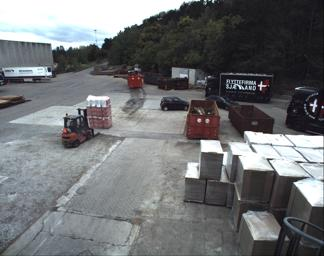rockwool_batts: (85, 93, 113, 128)
